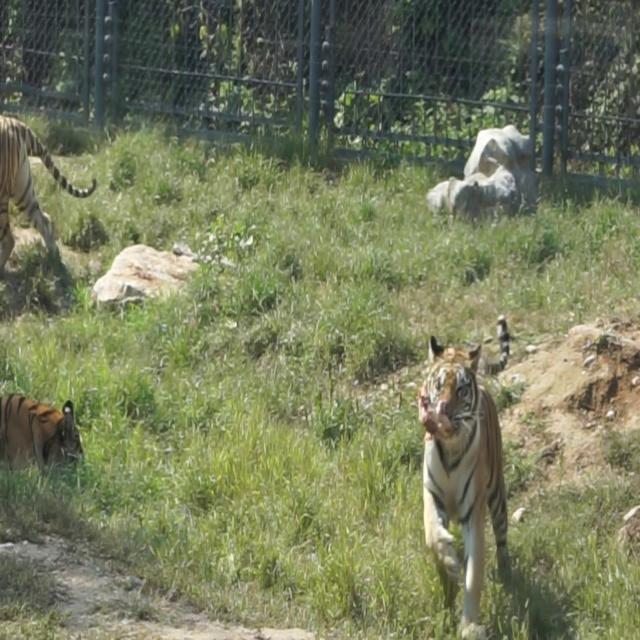Tiger: (409, 308, 529, 635), (0, 110, 97, 273), (0, 391, 84, 480)
